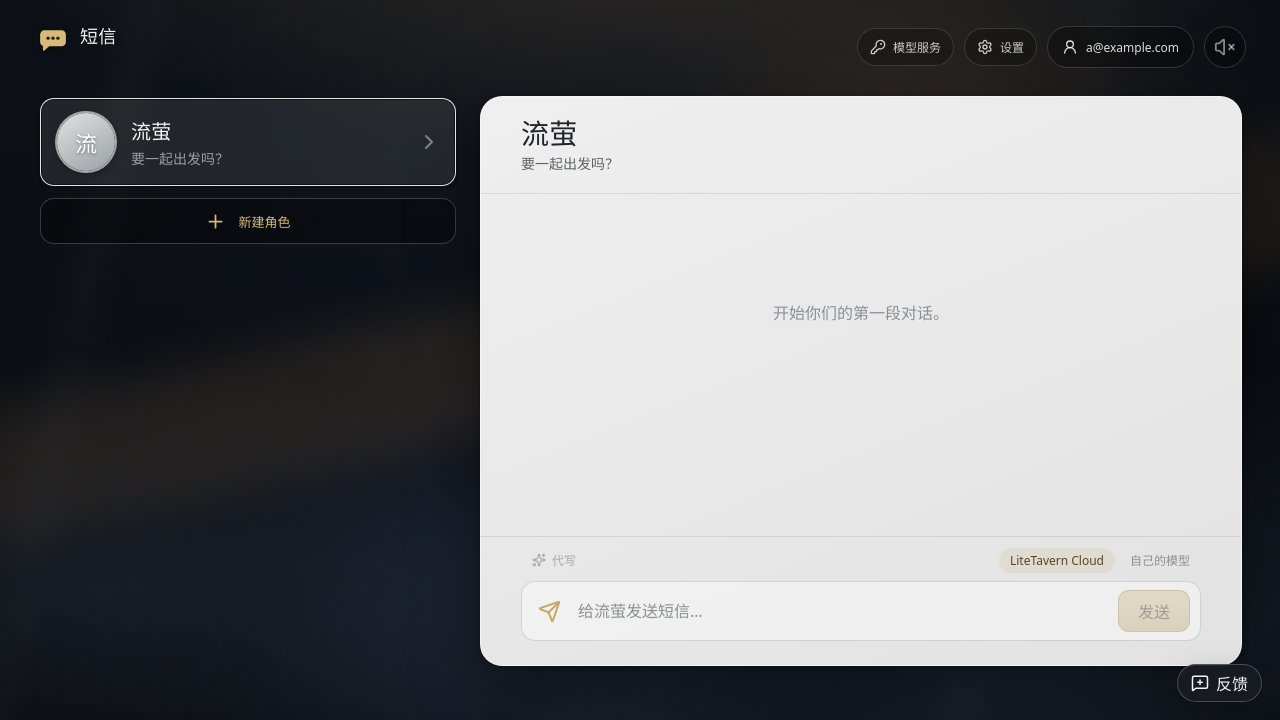
Test case: persona and worldbook entry points › opens the character worldbook picker from the character profile
This screenshot has width=1280, height=720.
Click the button with aria-label "打开流萤档案" at (549, 133), box x1=481 y1=97 x2=1241 y2=194
(page scrolled)
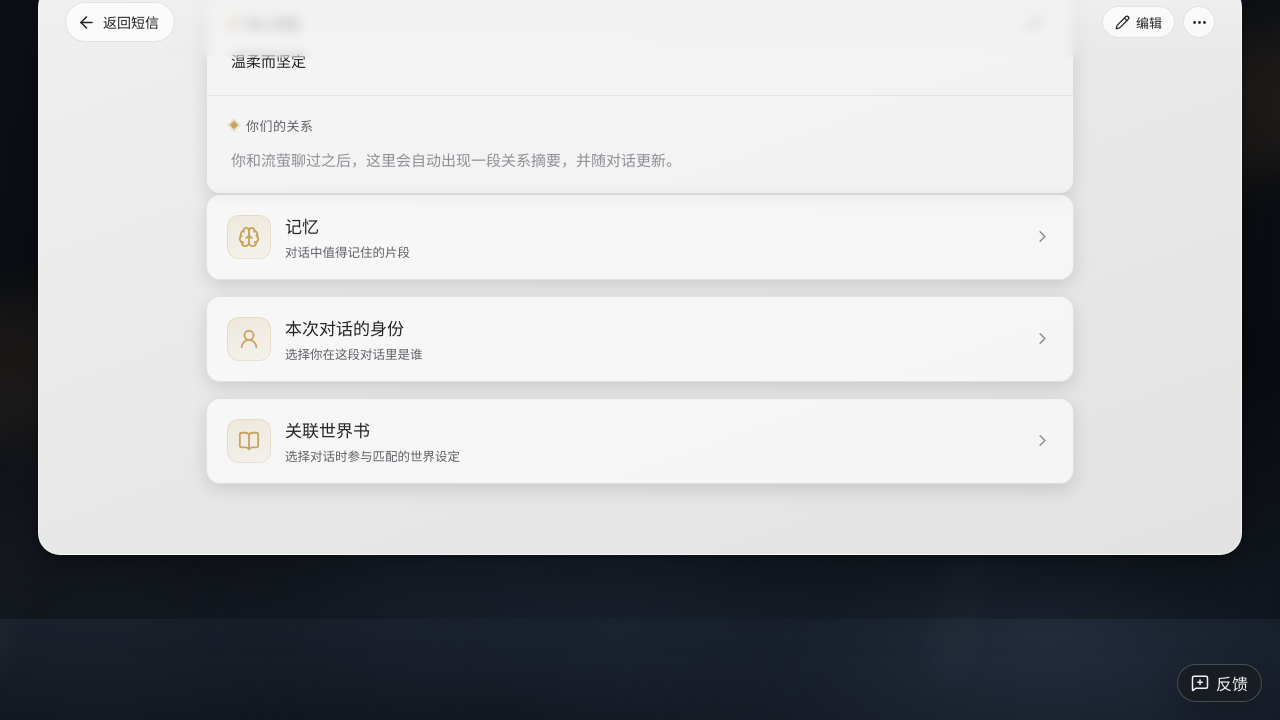
Click the button "关联世界书 选择对话时参与匹配的世界设定" at (249, 441), box x1=206 y1=398 x2=1074 y2=484
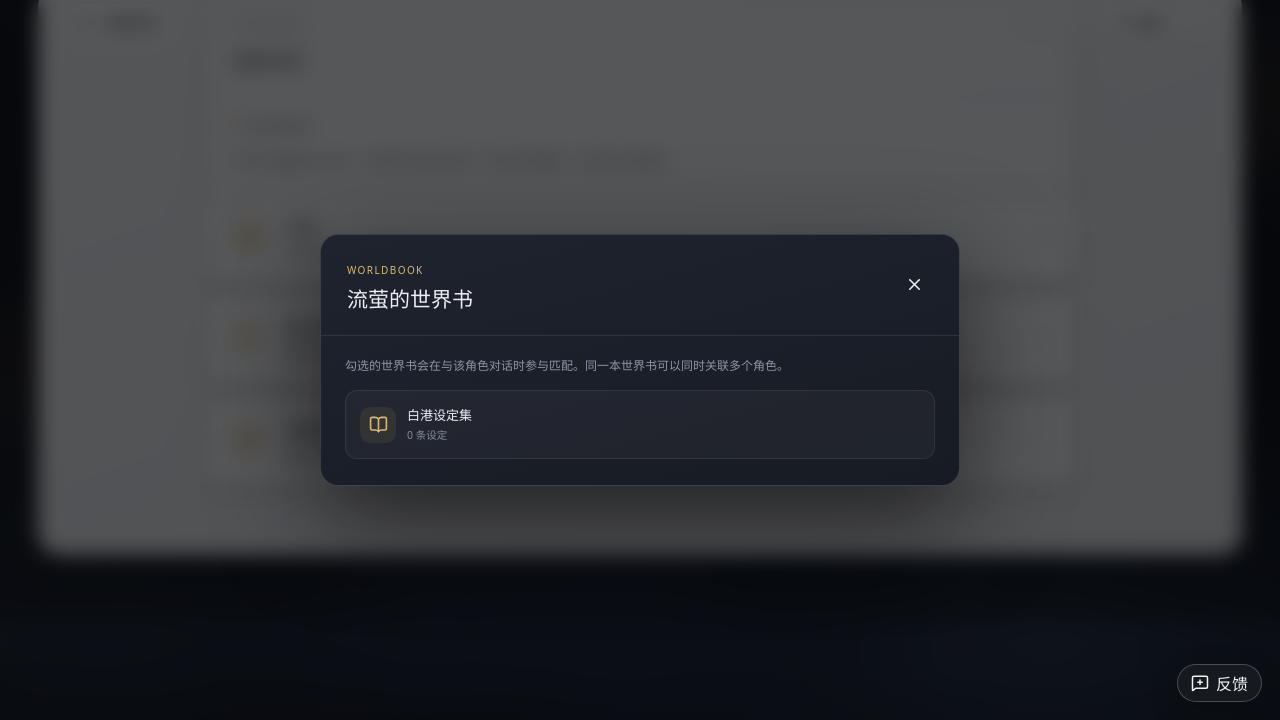
Check: the dialog "流萤的世界书" is shown, box x1=320 y1=234 x2=960 y2=486
Check: the text "白港设定集" is shown, box x1=407 y1=406 x2=472 y2=424
